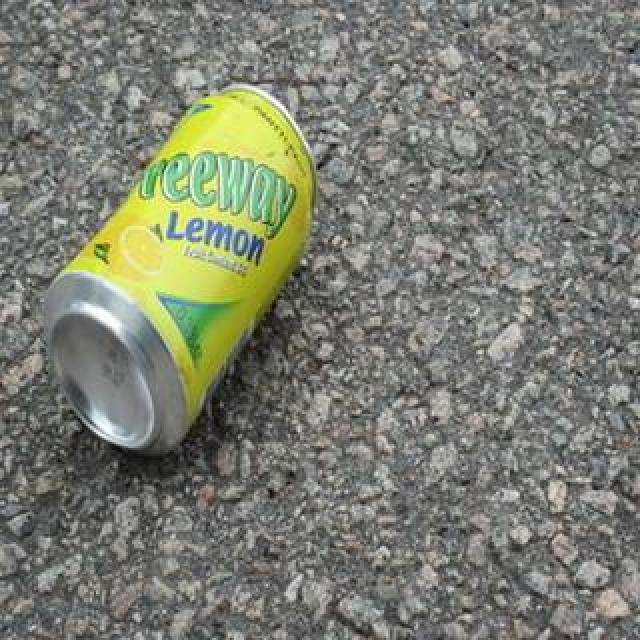kimloai: (56, 86, 300, 446)
